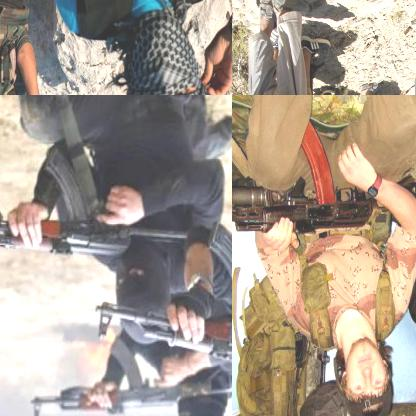rifle: (232, 120, 415, 243), (0, 147, 192, 259), (90, 219, 231, 371), (26, 337, 231, 415)
